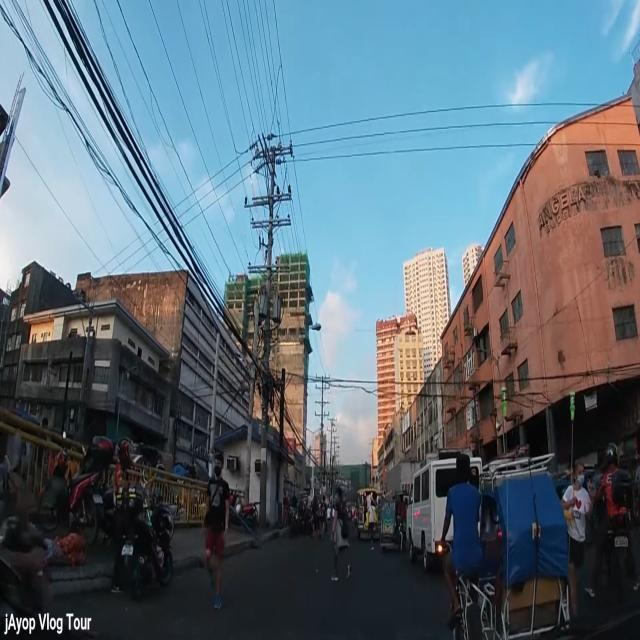jeepney: (357, 487, 382, 543)
motorcycle: (39, 432, 114, 544), (594, 442, 640, 604), (116, 486, 176, 592), (229, 480, 258, 536), (354, 503, 357, 528)
tricycle: (442, 453, 571, 640), (375, 496, 403, 552)
truck: (406, 456, 484, 570), (386, 460, 424, 496)
